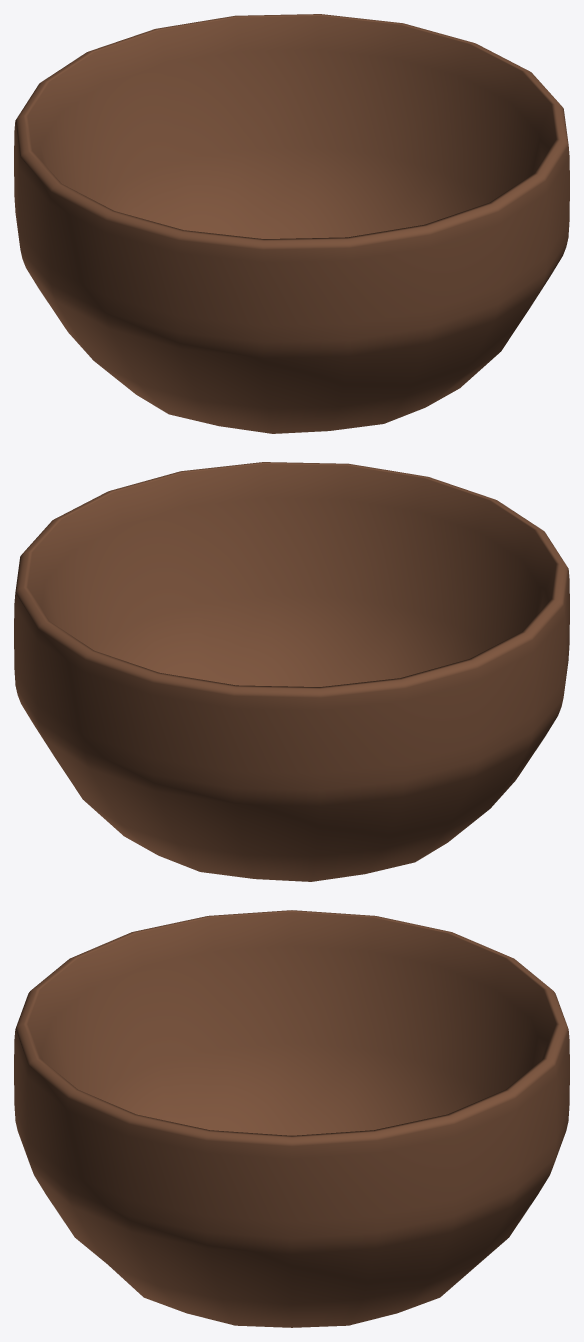
Rendered from Poterie4.fbx.
The picture shows the model from 3 angles, top to bottom: view 1: azimuth 30°, elevation 25°; view 2: azimuth 150°, elevation 25°; view 3: azimuth 270°, elevation 25°; orthographic projection.
Parts seen in each view (by area): view 1: polySurface35; view 2: polySurface35; view 3: polySurface35.
Boxes of the visible parts, x1,y1,x2,y2 form: polySurface35: [14, 14, 569, 433]; polySurface35: [14, 462, 569, 881]; polySurface35: [14, 910, 569, 1327].
Bounding box in the file's own units: 0.401 × 0.193 × 0.4005.
